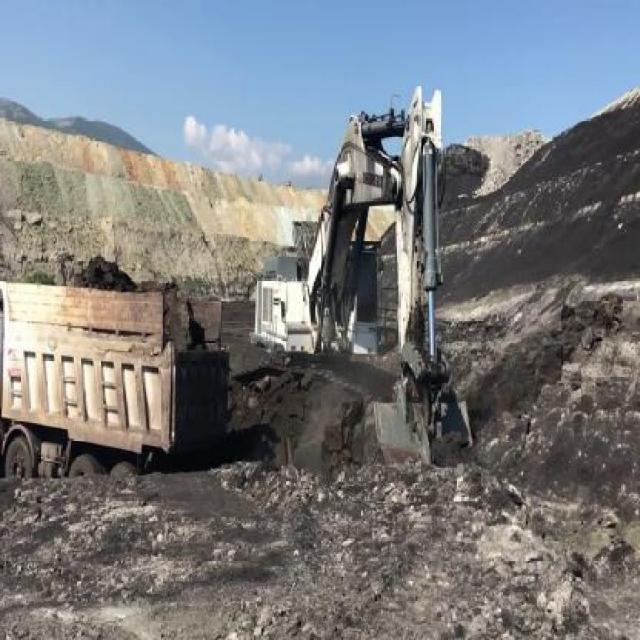Dump Truck: (0, 276, 234, 482)
Excavator: (245, 82, 477, 468)
